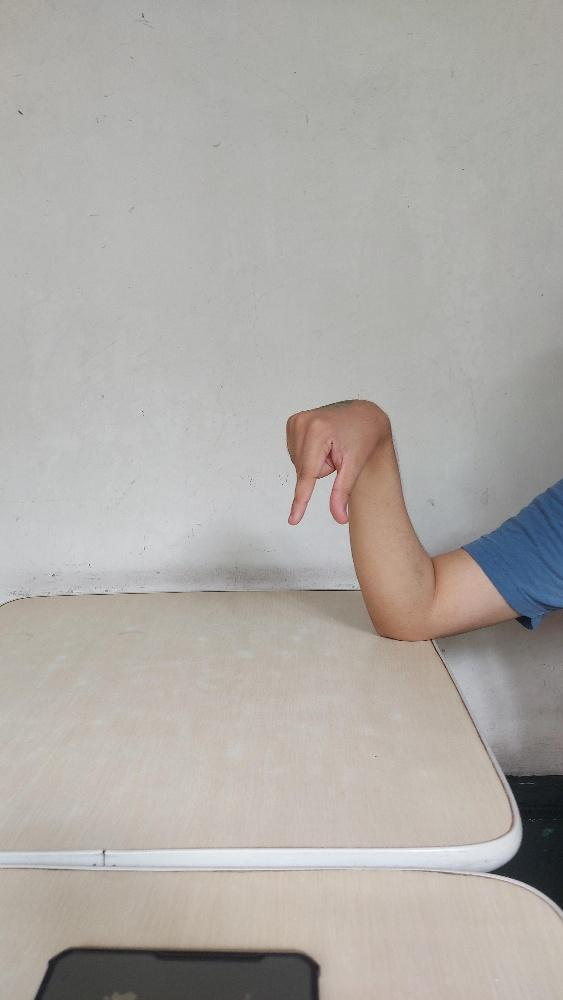q: (285, 398, 388, 524)
